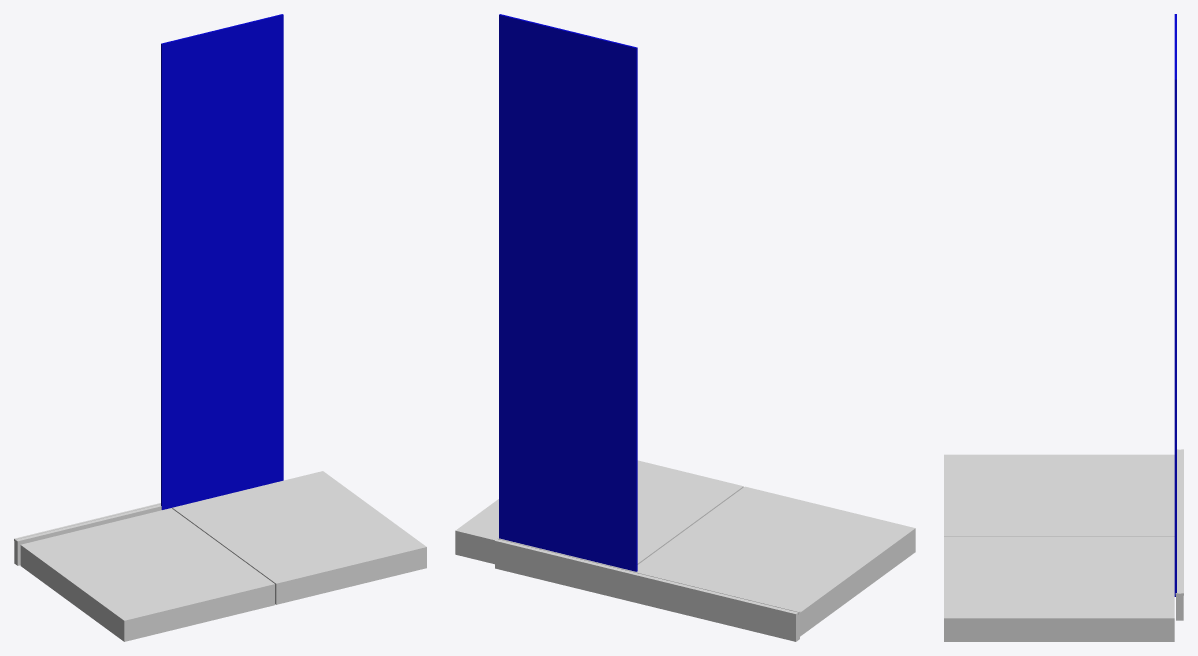
Rendered from ShowerCabinBath02.fbx.
3 views of the same model, side by side, from view 1: azimuth 30°, elevation 25°; view 2: azimuth 150°, elevation 25°; view 3: azimuth 270°, elevation 25° (orthographic). The views are drawn at different scales.
Parts seen in each view (by area): view 1: Window1Bath02, ShowerCabinetFloor1Bath02, ShowerCabinetFloor2Bath02, LowerFrameBath02; view 2: Window1Bath02, ShowerCabinetFloor1Bath02, LowerFrameBath02, ShowerCabinetFloor2Bath02, OuterStraightShowerRailBath02; view 3: ShowerCabinetFloor2Bath02, ShowerCabinetFloor1Bath02, Window1Bath02, LowerFrameBath02, OuterStraightShowerRailBath02.
Part boxes in pixels (bbox=[...]): Window1Bath02: bbox=[161, 14, 283, 509]; ShowerCabinetFloor1Bath02: bbox=[20, 508, 274, 641]; ShowerCabinetFloor2Bath02: bbox=[172, 471, 426, 604]; LowerFrameBath02: bbox=[14, 504, 172, 565]; Window1Bath02: bbox=[499, 14, 637, 571]; ShowerCabinetFloor1Bath02: bbox=[637, 486, 915, 636]; LowerFrameBath02: bbox=[495, 539, 799, 641]; ShowerCabinetFloor2Bath02: bbox=[455, 460, 743, 564]; OuterStraightShowerRailBath02: bbox=[494, 540, 797, 616]; ShowerCabinetFloor2Bath02: bbox=[944, 536, 1174, 641]; ShowerCabinetFloor1Bath02: bbox=[944, 454, 1174, 536]; Window1Bath02: bbox=[1174, 14, 1176, 596]; LowerFrameBath02: bbox=[1176, 449, 1183, 620]; OuterStraightShowerRailBath02: bbox=[1181, 449, 1183, 595].
Size of the model in its own units: 151 by 230 by 92.46.
